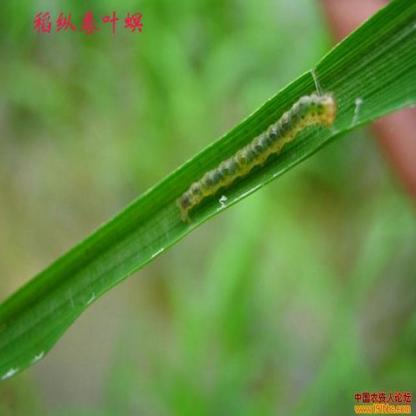leaf-folder: (158, 68, 336, 222)
